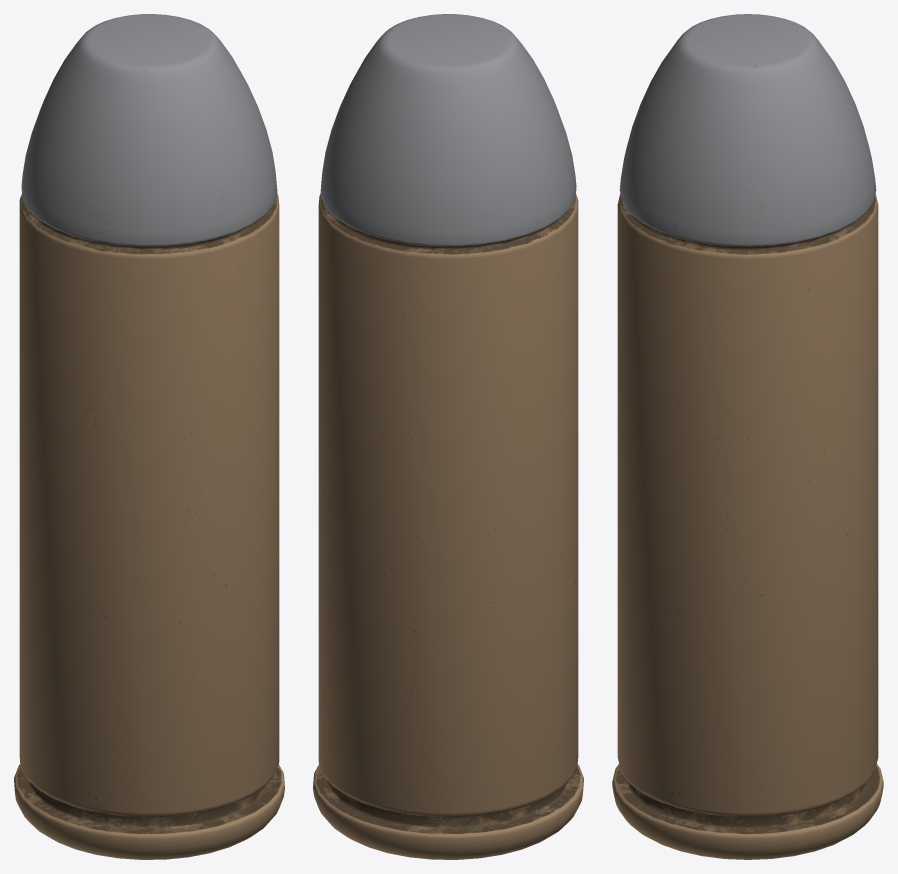
Rendered from Bullet.fbx.
The picture shows the model from 3 angles, left to right: view 1: azimuth 30°, elevation 25°; view 2: azimuth 150°, elevation 25°; view 3: azimuth 270°, elevation 25°; orthographic projection.
Parts seen in each view (by area): view 1: Cylinder; view 2: Cylinder; view 3: Cylinder.
Part boxes in pixels (<box>): Cylinder: <box>14,14,284,859</box>; Cylinder: <box>313,14,583,859</box>; Cylinder: <box>612,14,883,859</box>.
Size of the model in its own units: 10.15 by 31.87 by 10.15.
